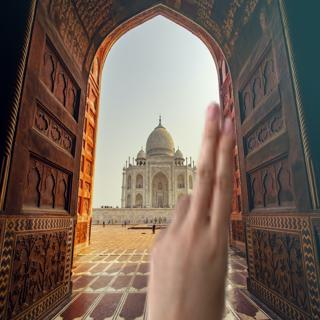DHAVE: (137, 100, 242, 320)
